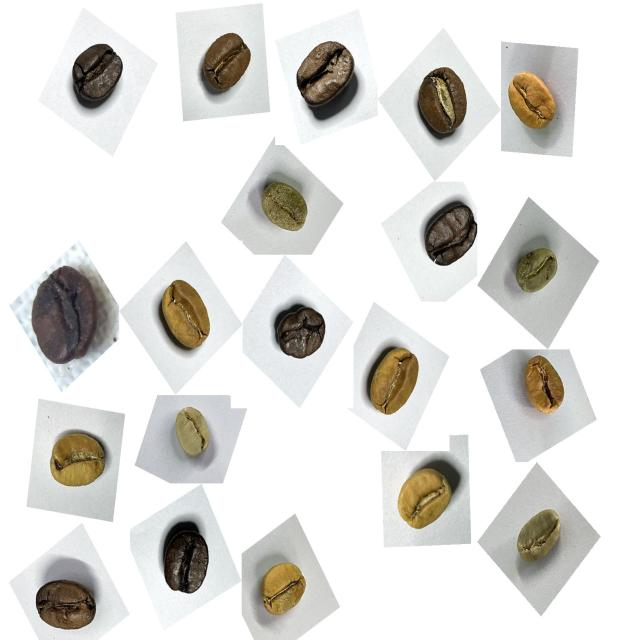bad: (20, 250, 110, 372)
dark: (150, 513, 224, 607), (412, 190, 485, 282), (62, 34, 131, 120), (266, 294, 334, 376)
green: (36, 414, 116, 504), (505, 496, 576, 580), (249, 168, 319, 247), (504, 234, 566, 308), (165, 397, 223, 470)
light: (148, 264, 226, 364), (358, 327, 434, 427), (386, 453, 463, 544), (501, 54, 572, 142), (247, 546, 318, 630), (515, 347, 576, 424)
medium: (286, 32, 368, 126), (404, 59, 483, 150), (28, 566, 104, 640), (194, 22, 260, 106)
